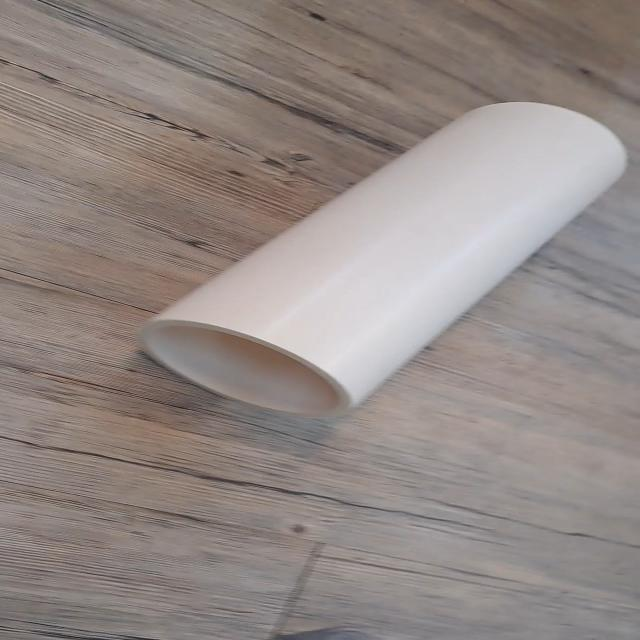CORAL: (110, 85, 625, 422)
